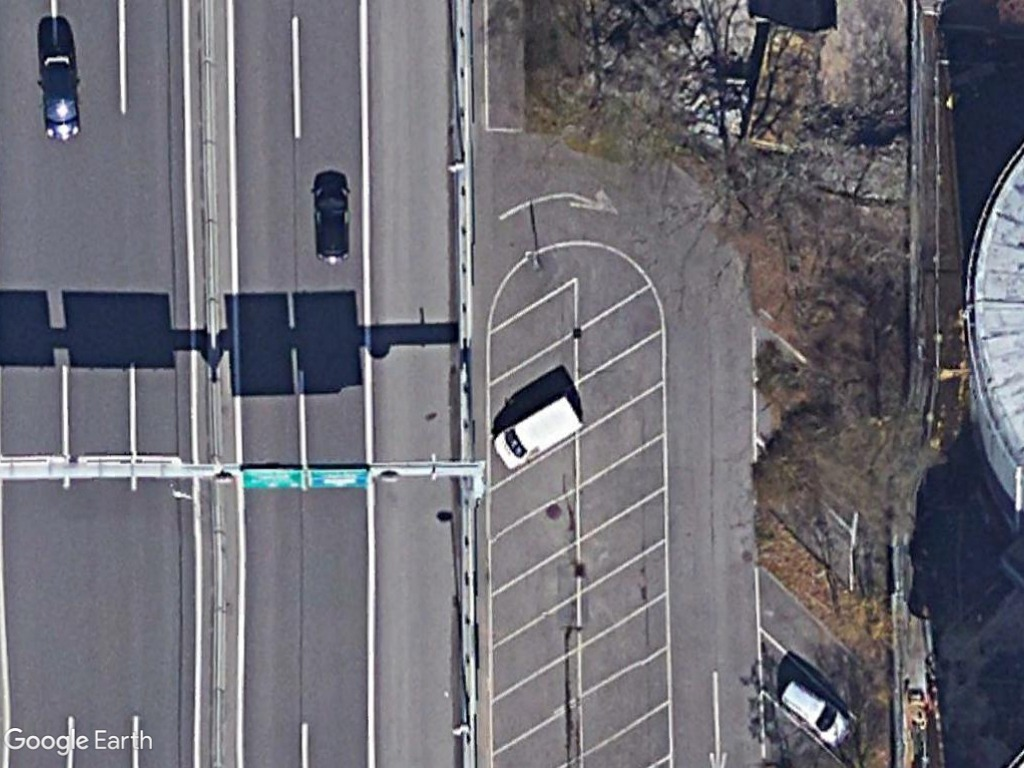car: (777, 676, 851, 747)
van: (489, 396, 584, 475)
